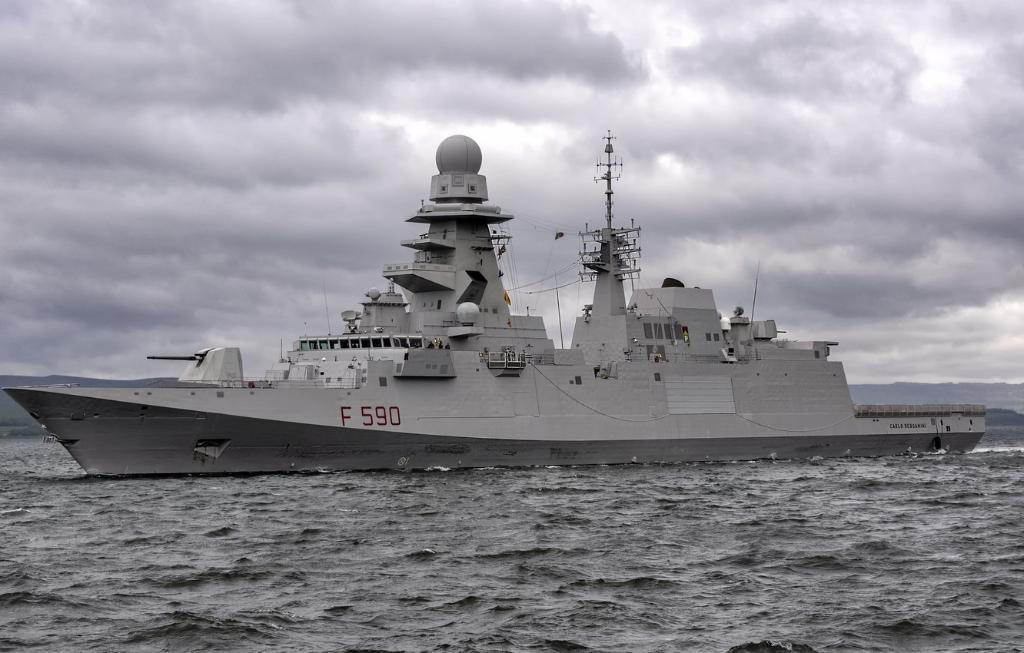Warship: (2, 128, 1002, 478)
